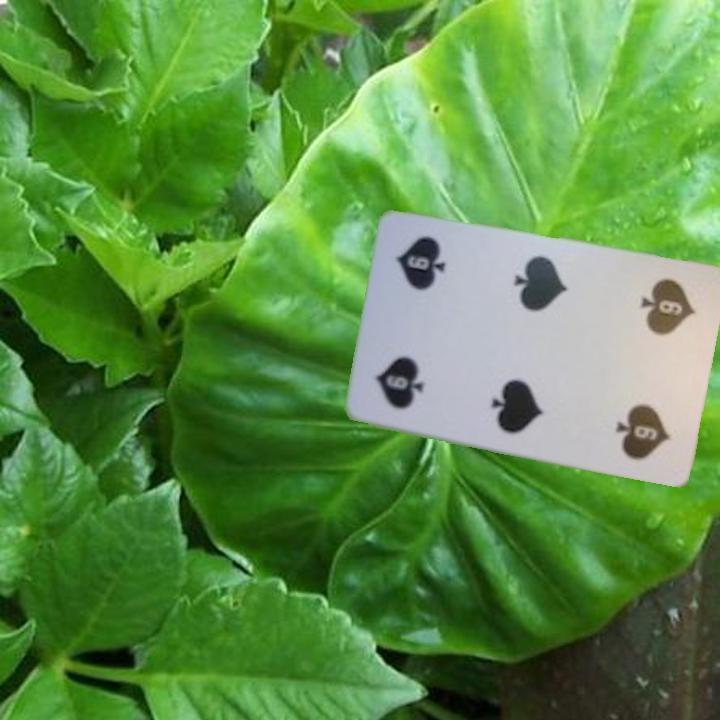s_6.png: (360, 314, 462, 427), (609, 264, 711, 377)
